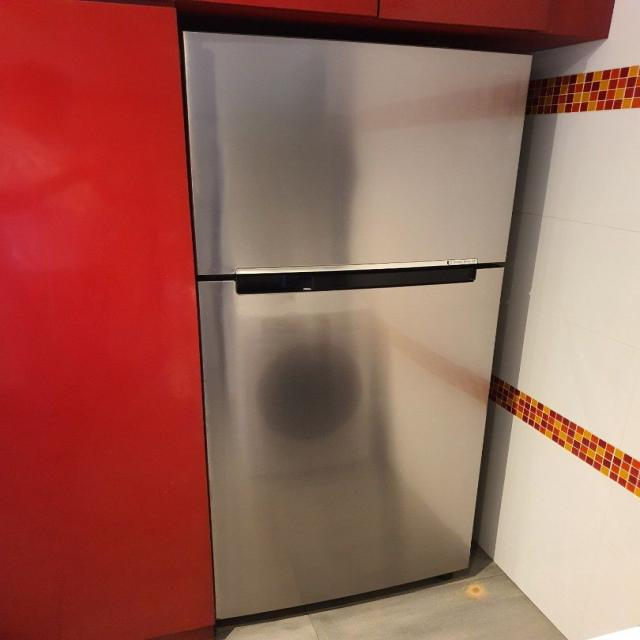refrigerator: (182, 29, 536, 620)
